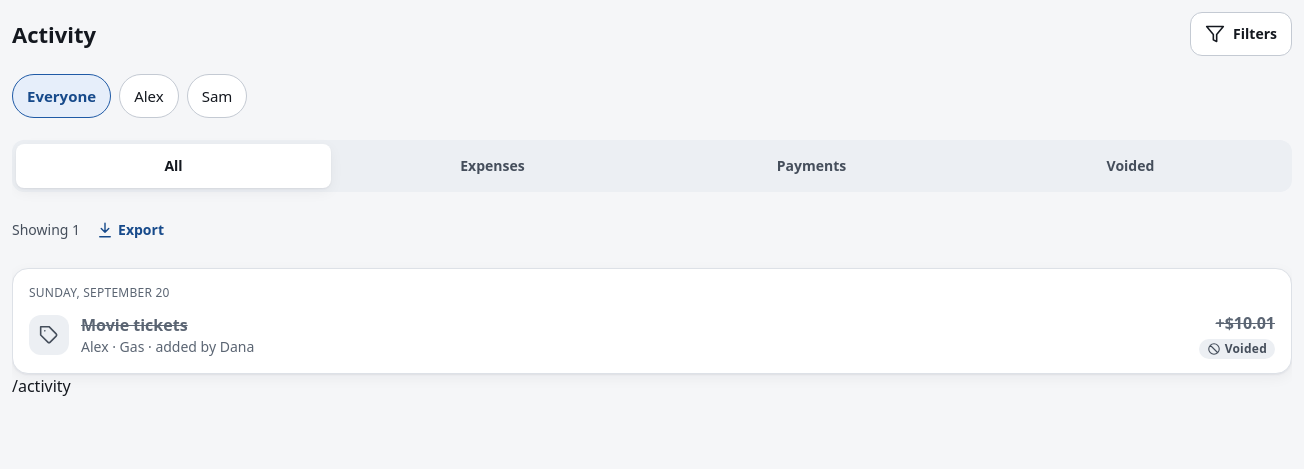
Test: ActivityPage as a Parent › keeps voided rows visible, struck through, chipped, with their reason and no void control
Expected: the text "Voided" is shown, [1199,339,1275,359]
Click the button "Movie tickets Alex · Gas · added by Dana +$10.01 Voided".
click(49, 335)  # box [29,301,1275,369]
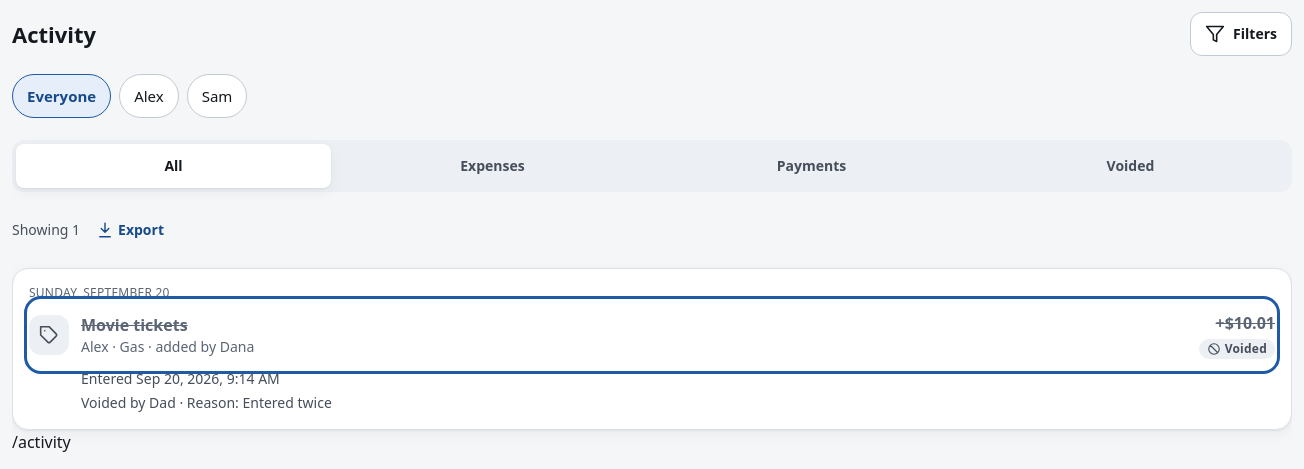
Expected: the text "Voided by Dad · Reason: Entered twice" is shown, [81,393,332,412]
